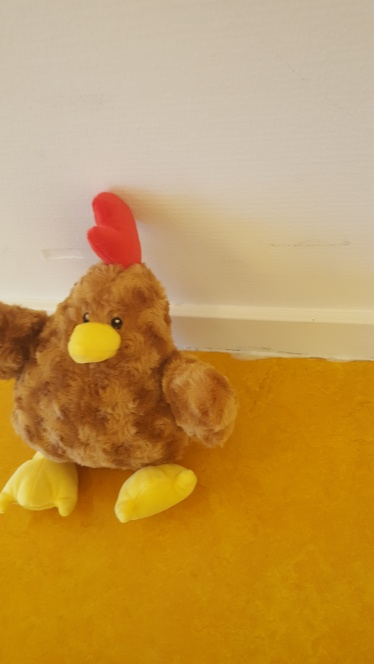chicken_front: (1, 193, 238, 526)
